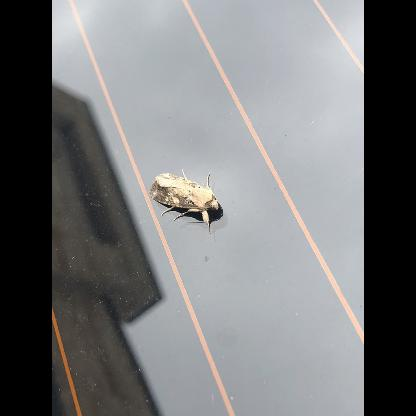Fall Armyworm Moth: (148, 168, 220, 236)
